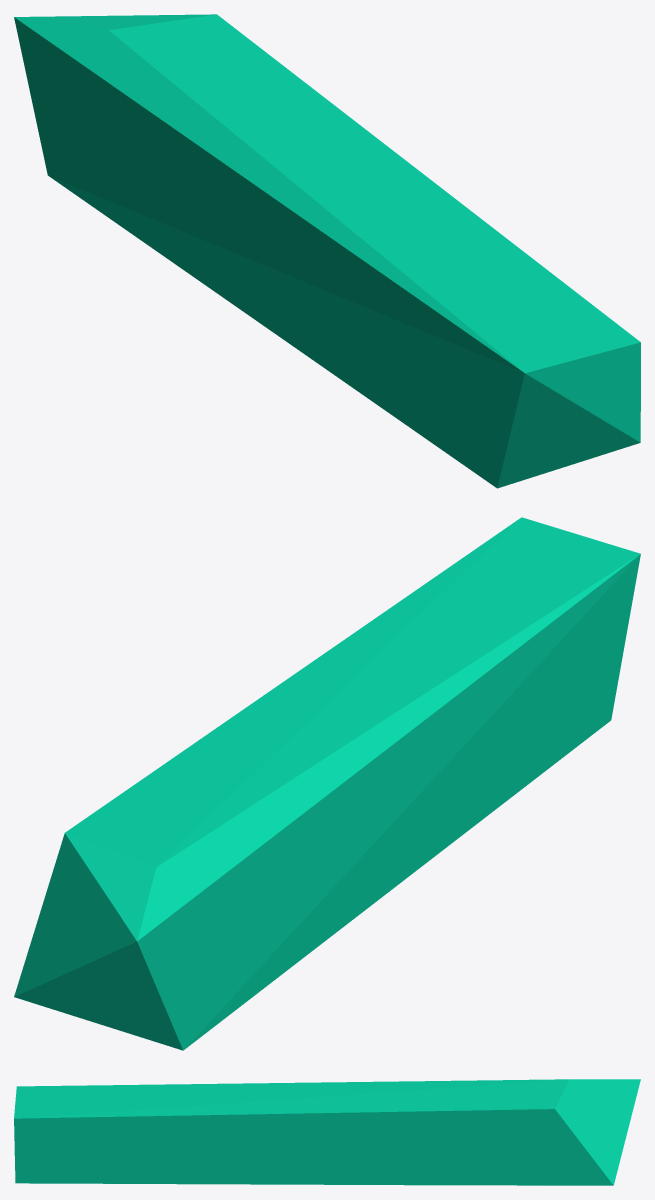
Rendered from recycle_bin_convex_piece_007.obj.
The picture shows the model from 3 angles, top to bottom: view 1: azimuth 30°, elevation 25°; view 2: azimuth 150°, elevation 25°; view 3: azimuth 270°, elevation 25°; orthographic projection. The views are drawn at different scales.
Size of the model in its own units: 0.0239 by 0.0253 by 0.1445.
